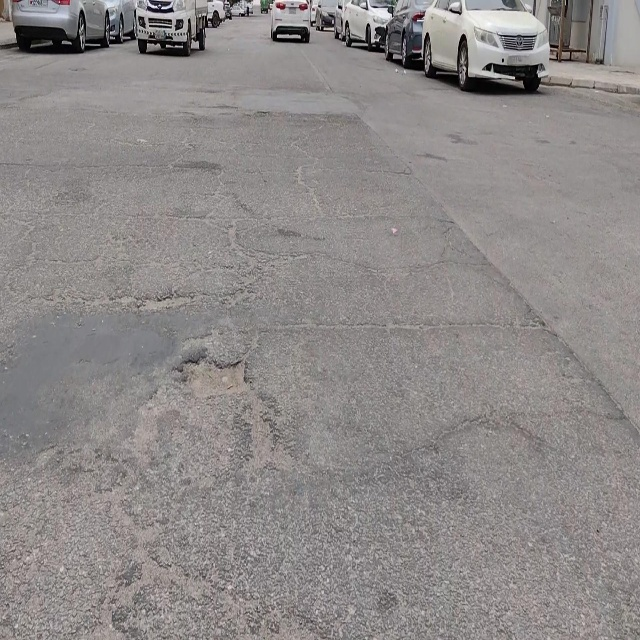pothole: (179, 355, 250, 402)
